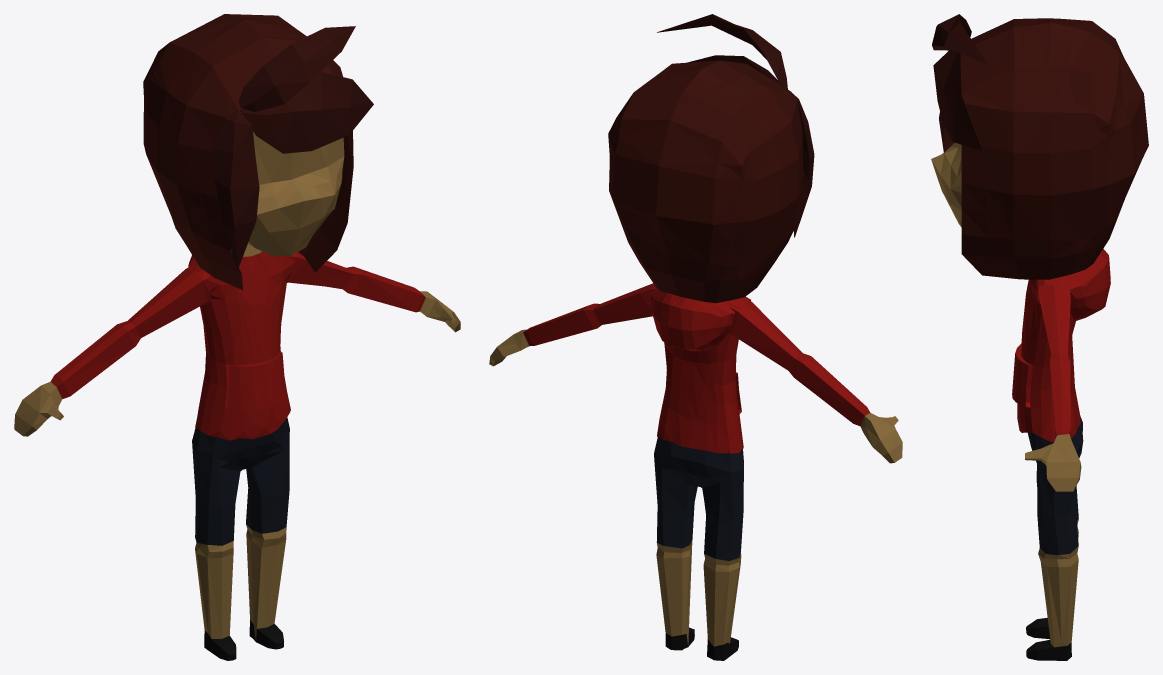
Rendered from low poly girl.obj.
The picture shows the model from 3 angles, left to right: view 1: azimuth 30°, elevation 25°; view 2: azimuth 150°, elevation 25°; view 3: azimuth 270°, elevation 25°; orthographic projection. The views are drawn at different scales.
Parts seen in each view (by area): view 1: Cube.010, Plane.001; view 2: Cube.010, Plane.001; view 3: Cube.010, Plane.001.
Boxes of the visible parts, x1,y1,x2,y2 form: Cube.010: (14,14,460,660); Plane.001: (212,26,373,270); Cube.010: (489,60,902,660); Plane.001: (657,14,814,237); Cube.010: (931,18,1148,660); Plane.001: (932,14,988,151).
Size of the model in its own units: 10.18 by 14.3 by 4.41.
